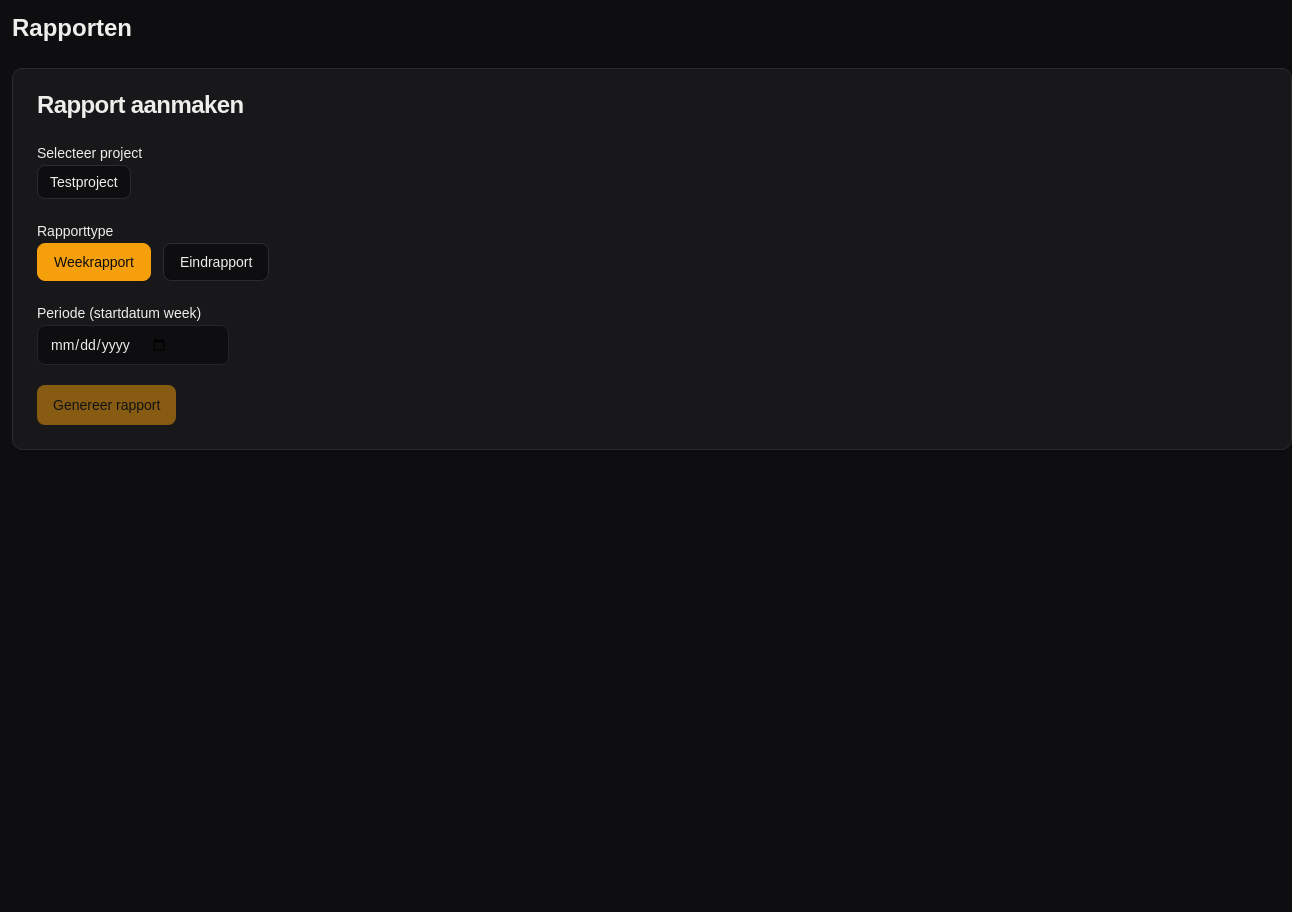
Test: ReportBuilderPage — report preview › shows preview section with report title after generation
This screenshot has width=1292, height=912.
Step 1. Click the button "Testproject" → click(84, 182), box [37,165,131,199]
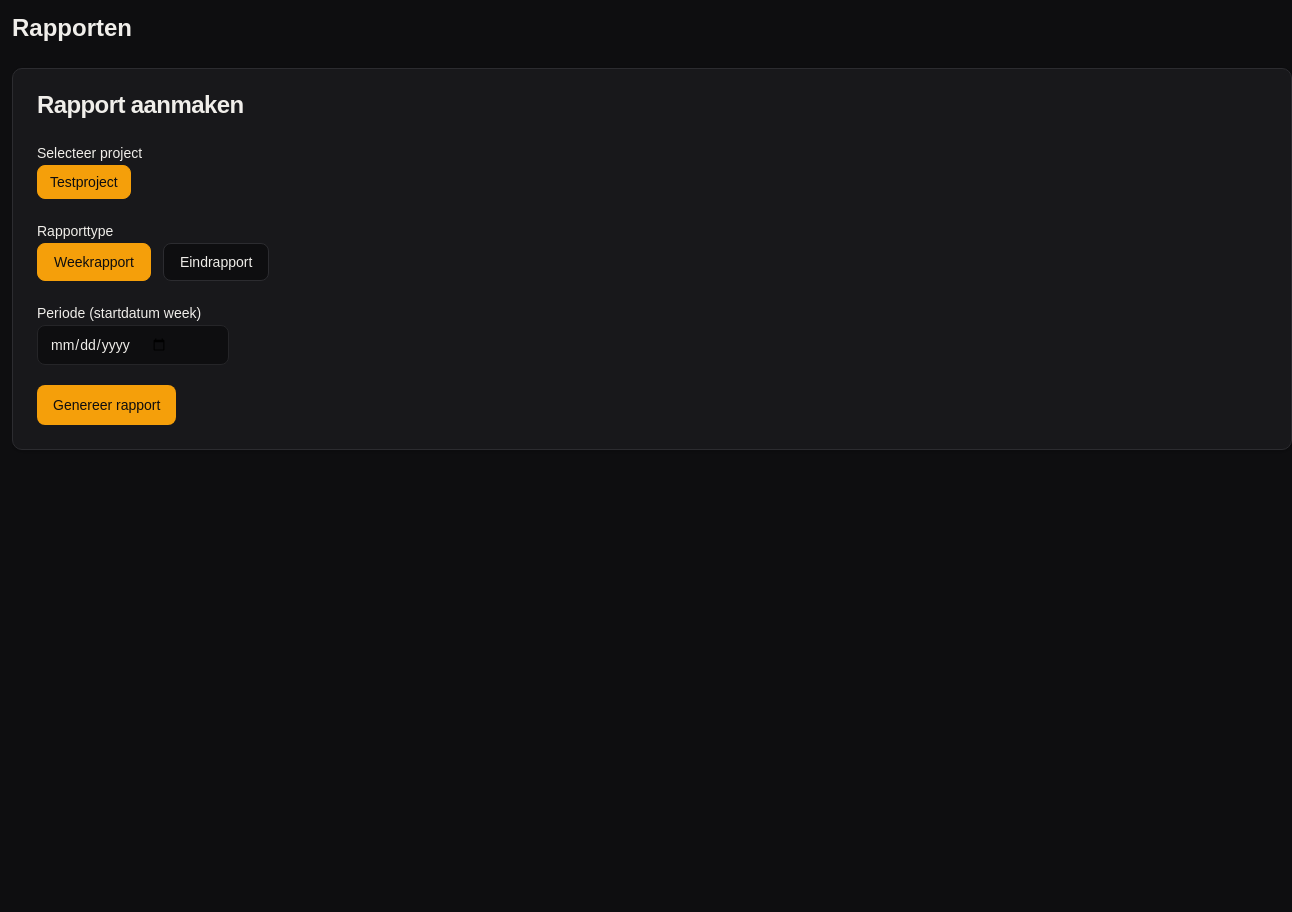
Step 2. Click the button "Genereer rapport" → click(107, 405), box [37,385,176,425]
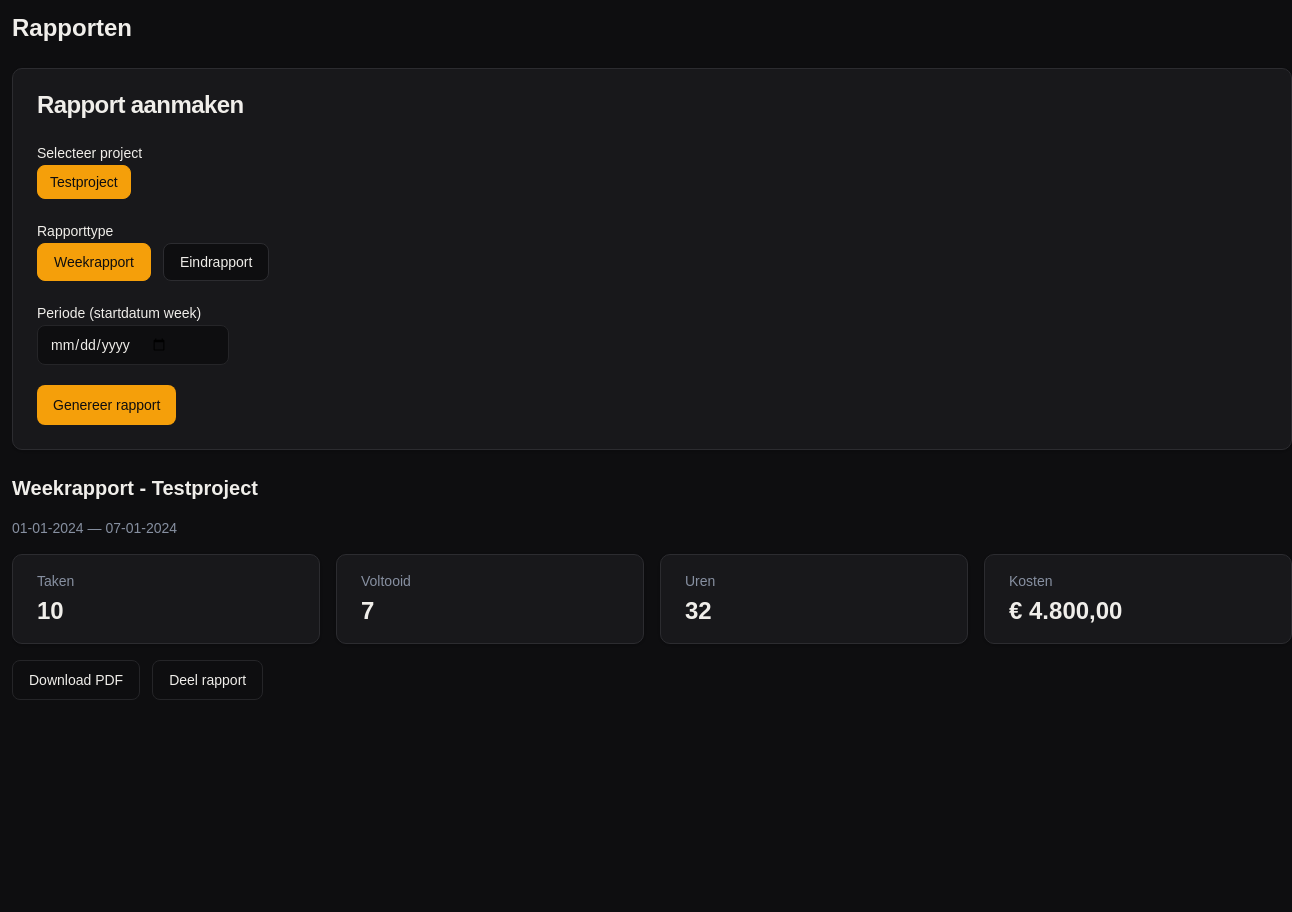
Now the heading "Weekrapport - Testproject" is shown, box [12,477,258,499]
